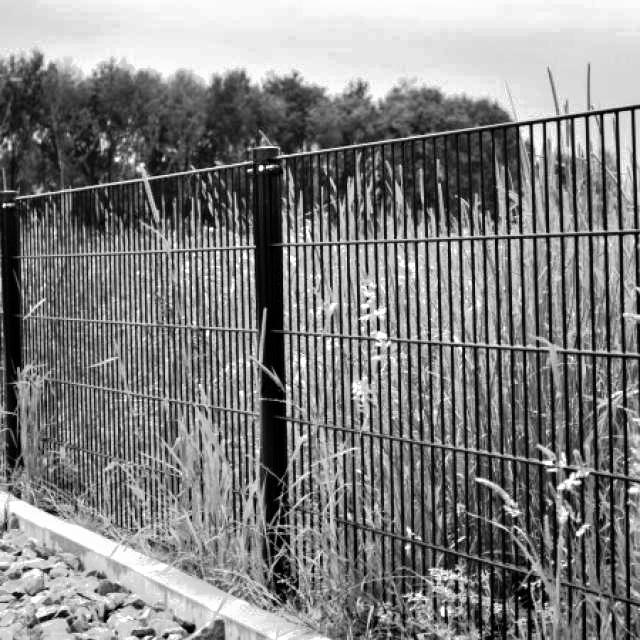fences: (268, 134, 640, 639), (11, 193, 255, 612)
